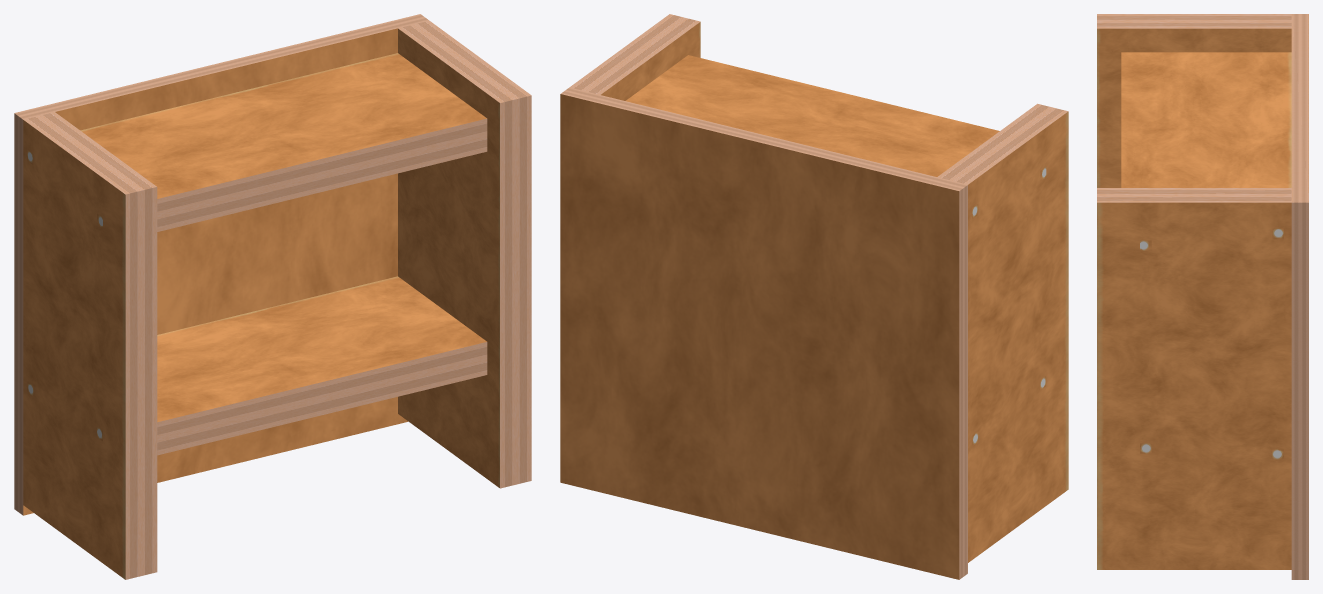
Rendered from Shelf_3.fbx.
3 views of the same model, side by side, from view 1: azimuth 30°, elevation 25°; view 2: azimuth 150°, elevation 25°; view 3: azimuth 270°, elevation 25° (orthographic). The views are drawn at different scales.
Parts seen in each view (by area): view 1: Shelf_3; view 2: Shelf_3; view 3: Shelf_3.
Boxes of the visible parts, x1,y1,x2,y2 form: Shelf_3: (14,14,531,579); Shelf_3: (560,14,1068,579); Shelf_3: (1097,14,1308,579).
Size of the model in its own units: 1.04 by 0.9659 by 0.492.
